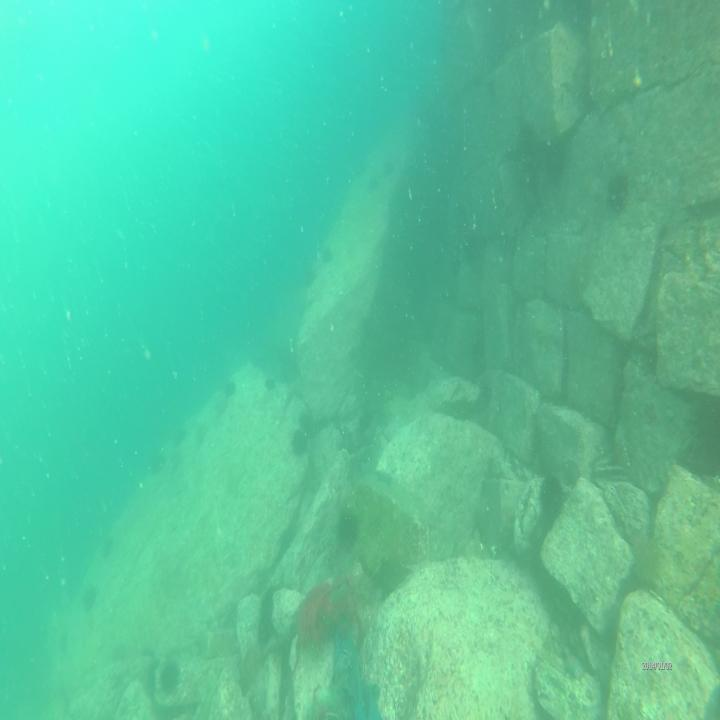echinus: (538, 470, 566, 522), (334, 511, 360, 555), (607, 170, 630, 213), (160, 661, 183, 696), (292, 426, 308, 459)
